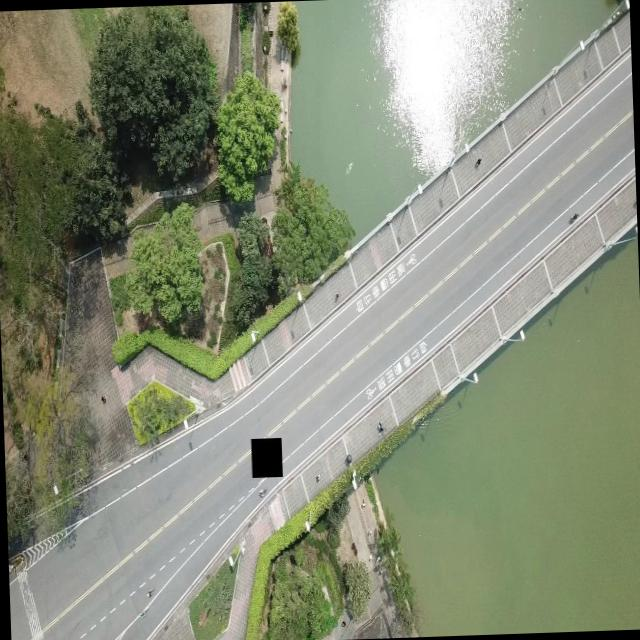bike: (567, 211, 579, 223)
